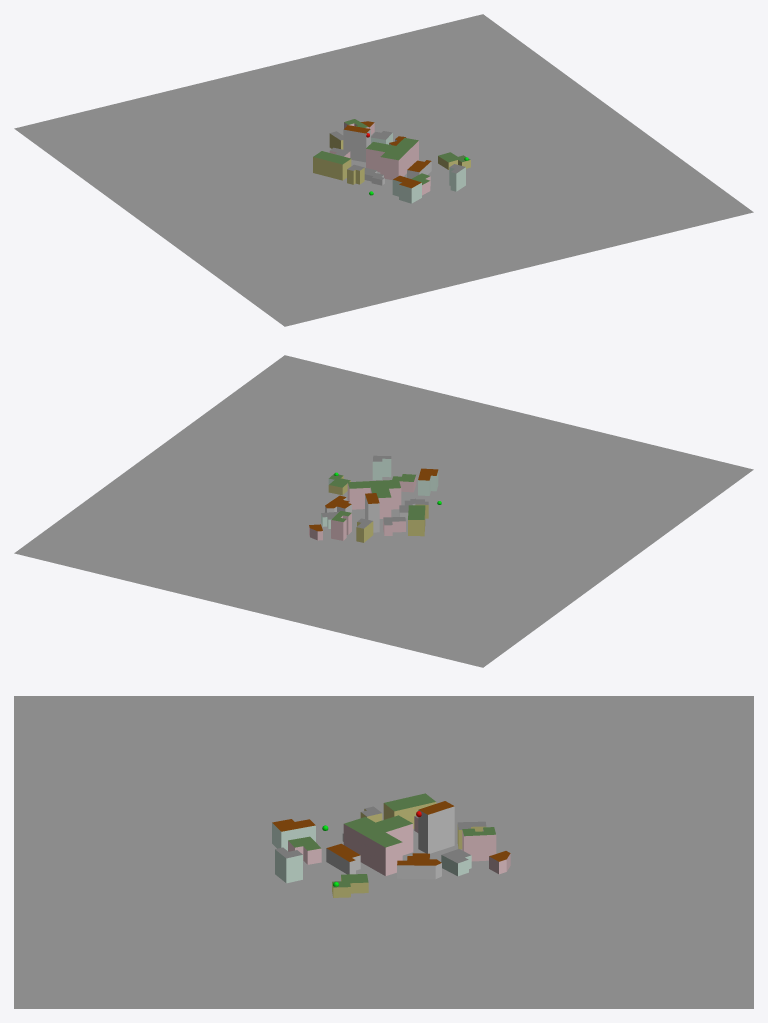
Rendered from 3d_view.glb.
3 renders of one model, top to bottom at view 1: azimuth 30°, elevation 25°; view 2: azimuth 150°, elevation 25°; view 3: azimuth 270°, elevation 25°, orthographic. The views are drawn at different scales.
Parts seen in each view (by area): view 1: 0; view 2: 0; view 3: 0.
Boxes of the visible parts, x1,y1,x2,y2 form: 0: (14,14,753,326); 0: (14,355,753,667); 0: (14,696,753,1008).
Bounding box in the file's own units: 351 × 21.48 × 351.
